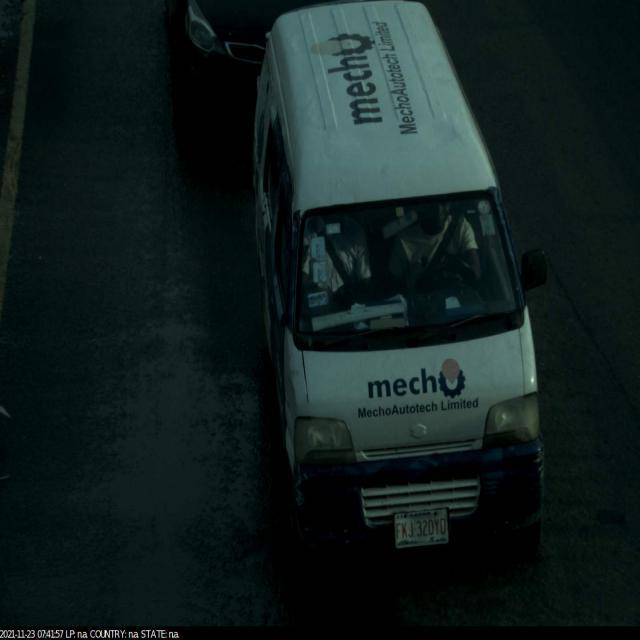windshield: (286, 185, 532, 357)
